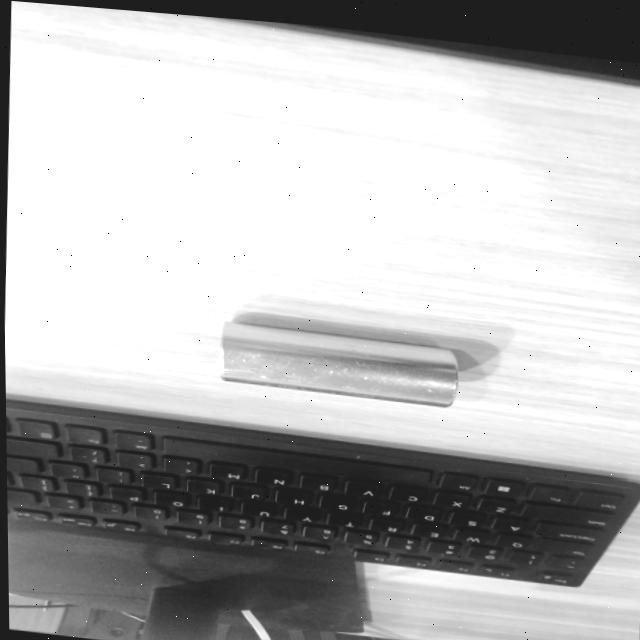Co_Lon: (216, 318, 462, 410)
